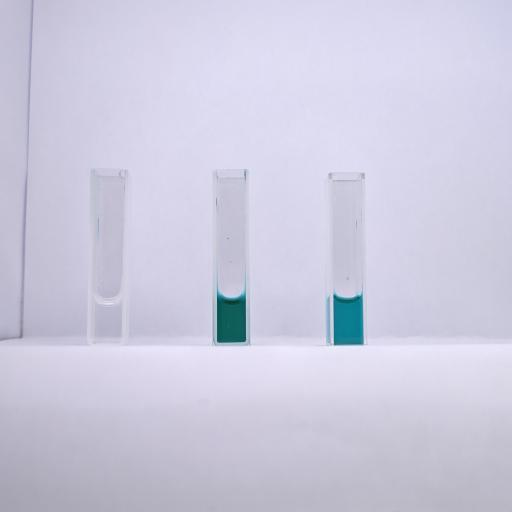cuvette: (86, 166, 130, 348), (210, 166, 252, 350), (326, 170, 369, 348)
liquid: (333, 293, 363, 345), (217, 291, 245, 342), (93, 296, 122, 343)
